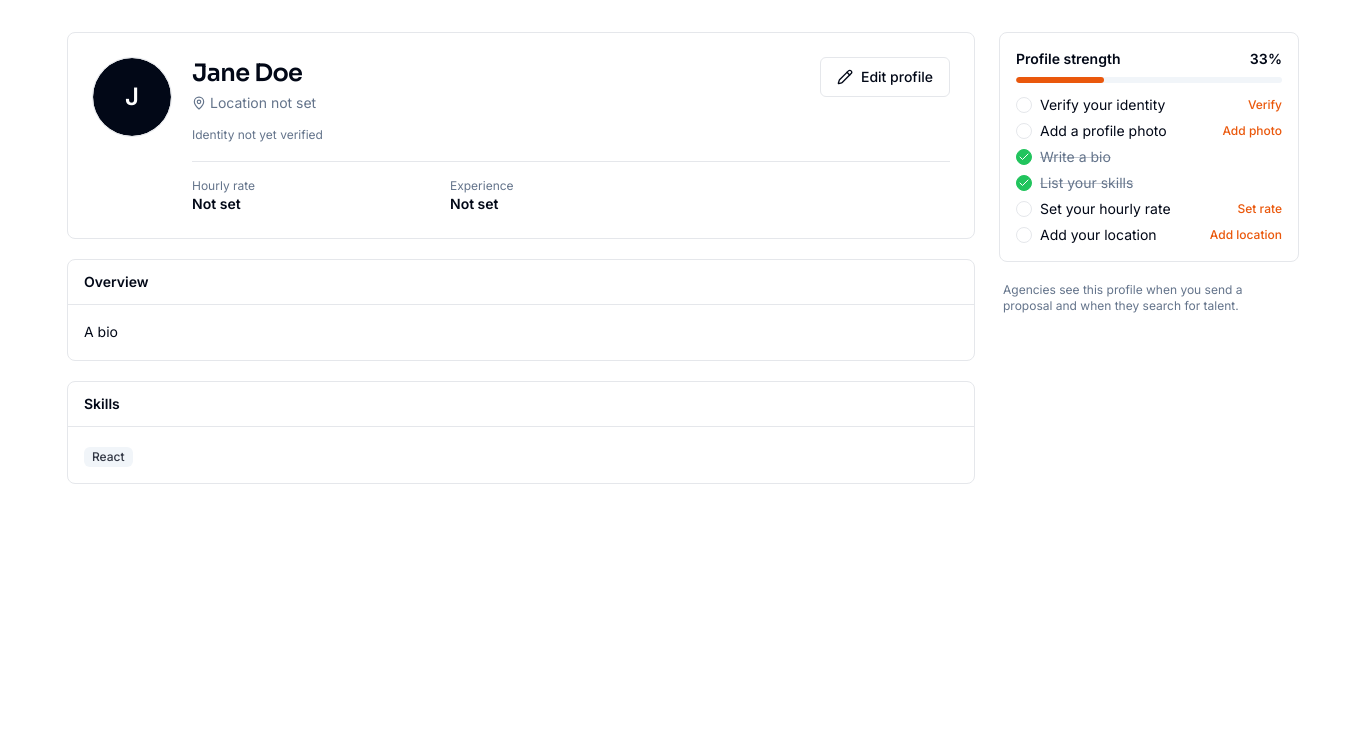
Test: FreelancerProfile › renders the current profile read-only, then reveals form fields in edit mode
Expected: the heading "Jane Doe" is shown, [192,58,302,88]
Expected: the text "A bio" is shown, [84,323,118,340]
Click the button "Edit profile" at (885, 77), box [820,57,950,97]
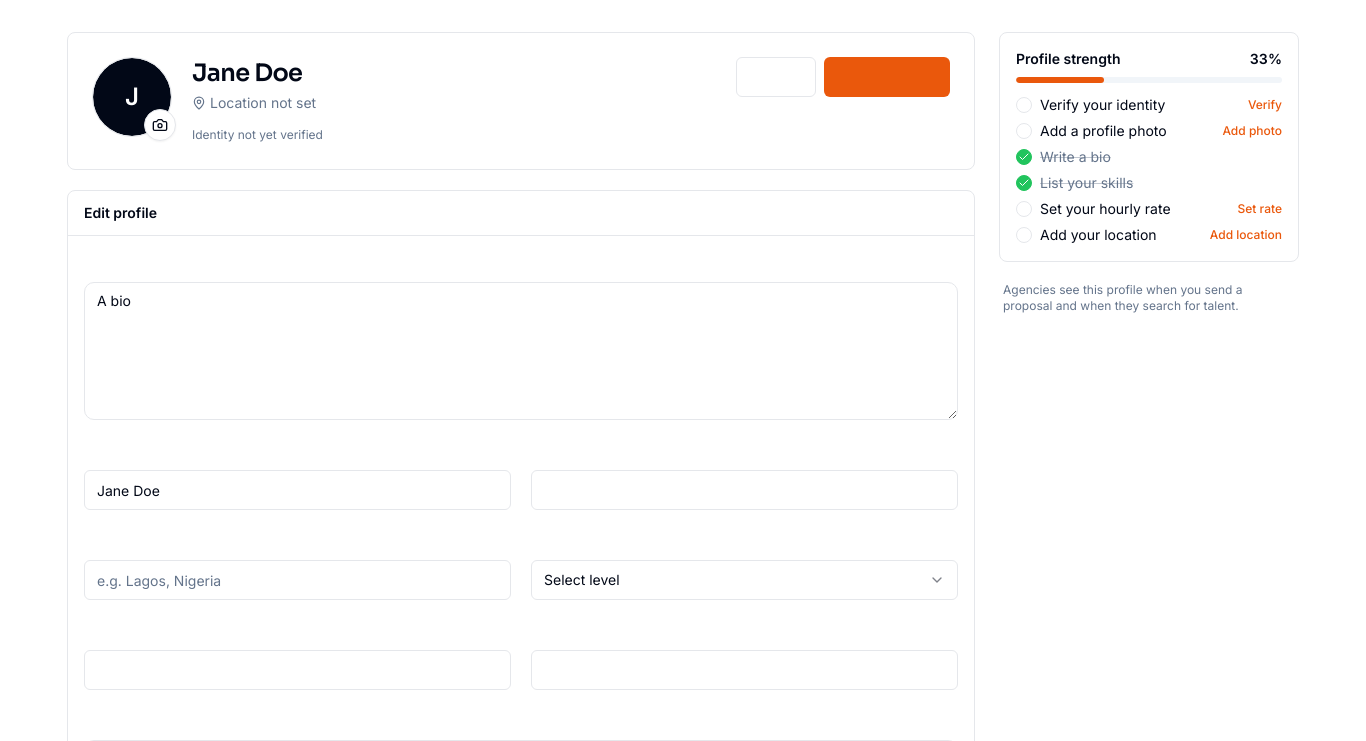
Now the field labelled "Full name" holds "Jane Doe", box [84,470,511,510]
